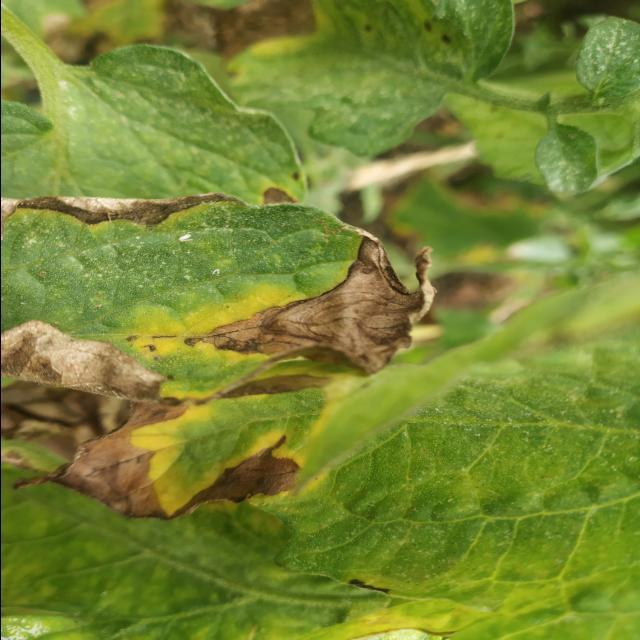Tomato mosaic virus leaf: (0, 187, 442, 407)
